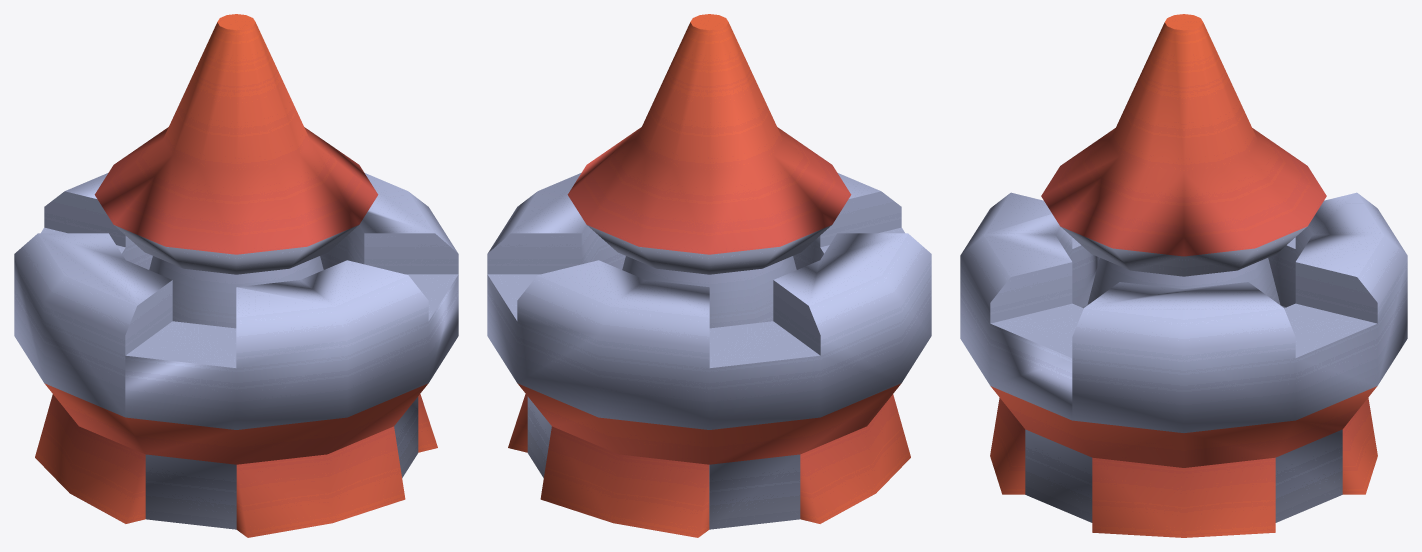
Rendered from tower-round-roof-c.glb.
The picture shows the model from 3 angles, left to right: view 1: azimuth 30°, elevation 25°; view 2: azimuth 150°, elevation 25°; view 3: azimuth 270°, elevation 25°; orthographic projection.
Visible parts, largest first — view 1: tower-round-roof-c; view 2: tower-round-roof-c; view 3: tower-round-roof-c.
Boxes of the visible parts, x1=… form: tower-round-roof-c: x1=14, y1=14, x2=458, y2=537; tower-round-roof-c: x1=487, y1=14, x2=931, y2=537; tower-round-roof-c: x1=960, y1=14, x2=1407, y2=537.
Size of the model in its own units: 0.976 by 1.04 by 0.976.
1 material, 1 textured.
